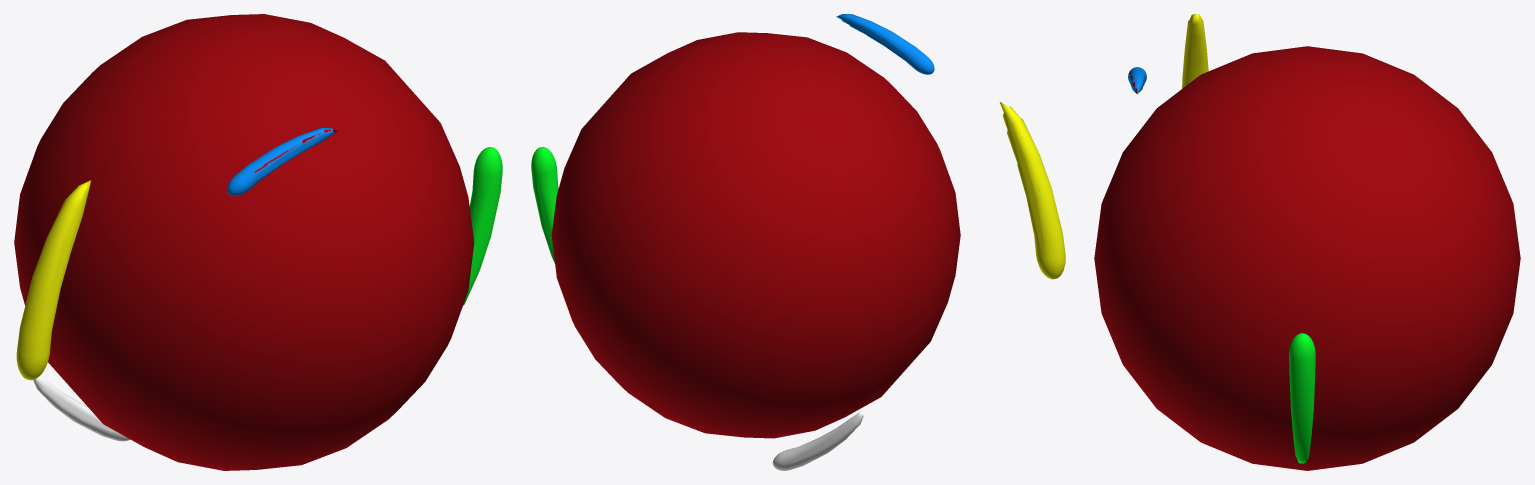
The model's file is healthOrb.fbx.
3 renders of one model, left to right at view 1: azimuth 30°, elevation 25°; view 2: azimuth 150°, elevation 25°; view 3: azimuth 270°, elevation 25°, orthographic. The views are drawn at different scales.
Visible parts, largest first — view 1: Sphere; view 2: Sphere; view 3: Sphere.
Part boxes in pixels (left/top/right/bottom): Sphere: left=14, top=14, right=502, bottom=470; Sphere: left=531, top=14, right=1065, bottom=470; Sphere: left=1094, top=14, right=1520, bottom=470.
Bounding box in the file's own units: 2.71 × 2.02 × 2.
Materials: 1 (1 with a texture image).
